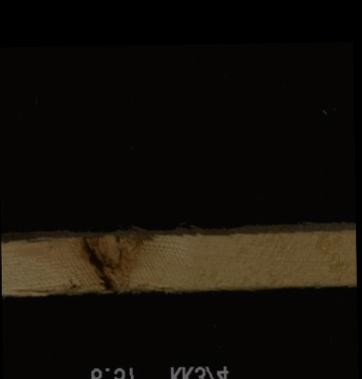edge_knot: (79, 231, 148, 290)
